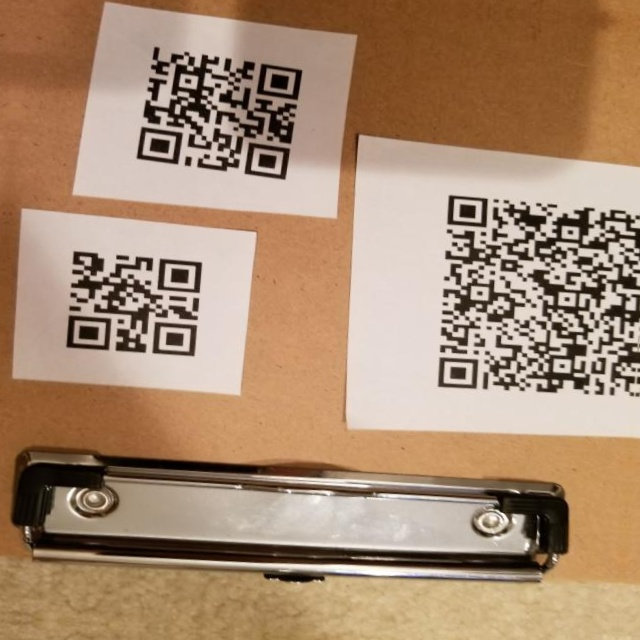qr-code: (420, 187, 640, 422), (129, 33, 317, 191), (52, 242, 222, 372)
